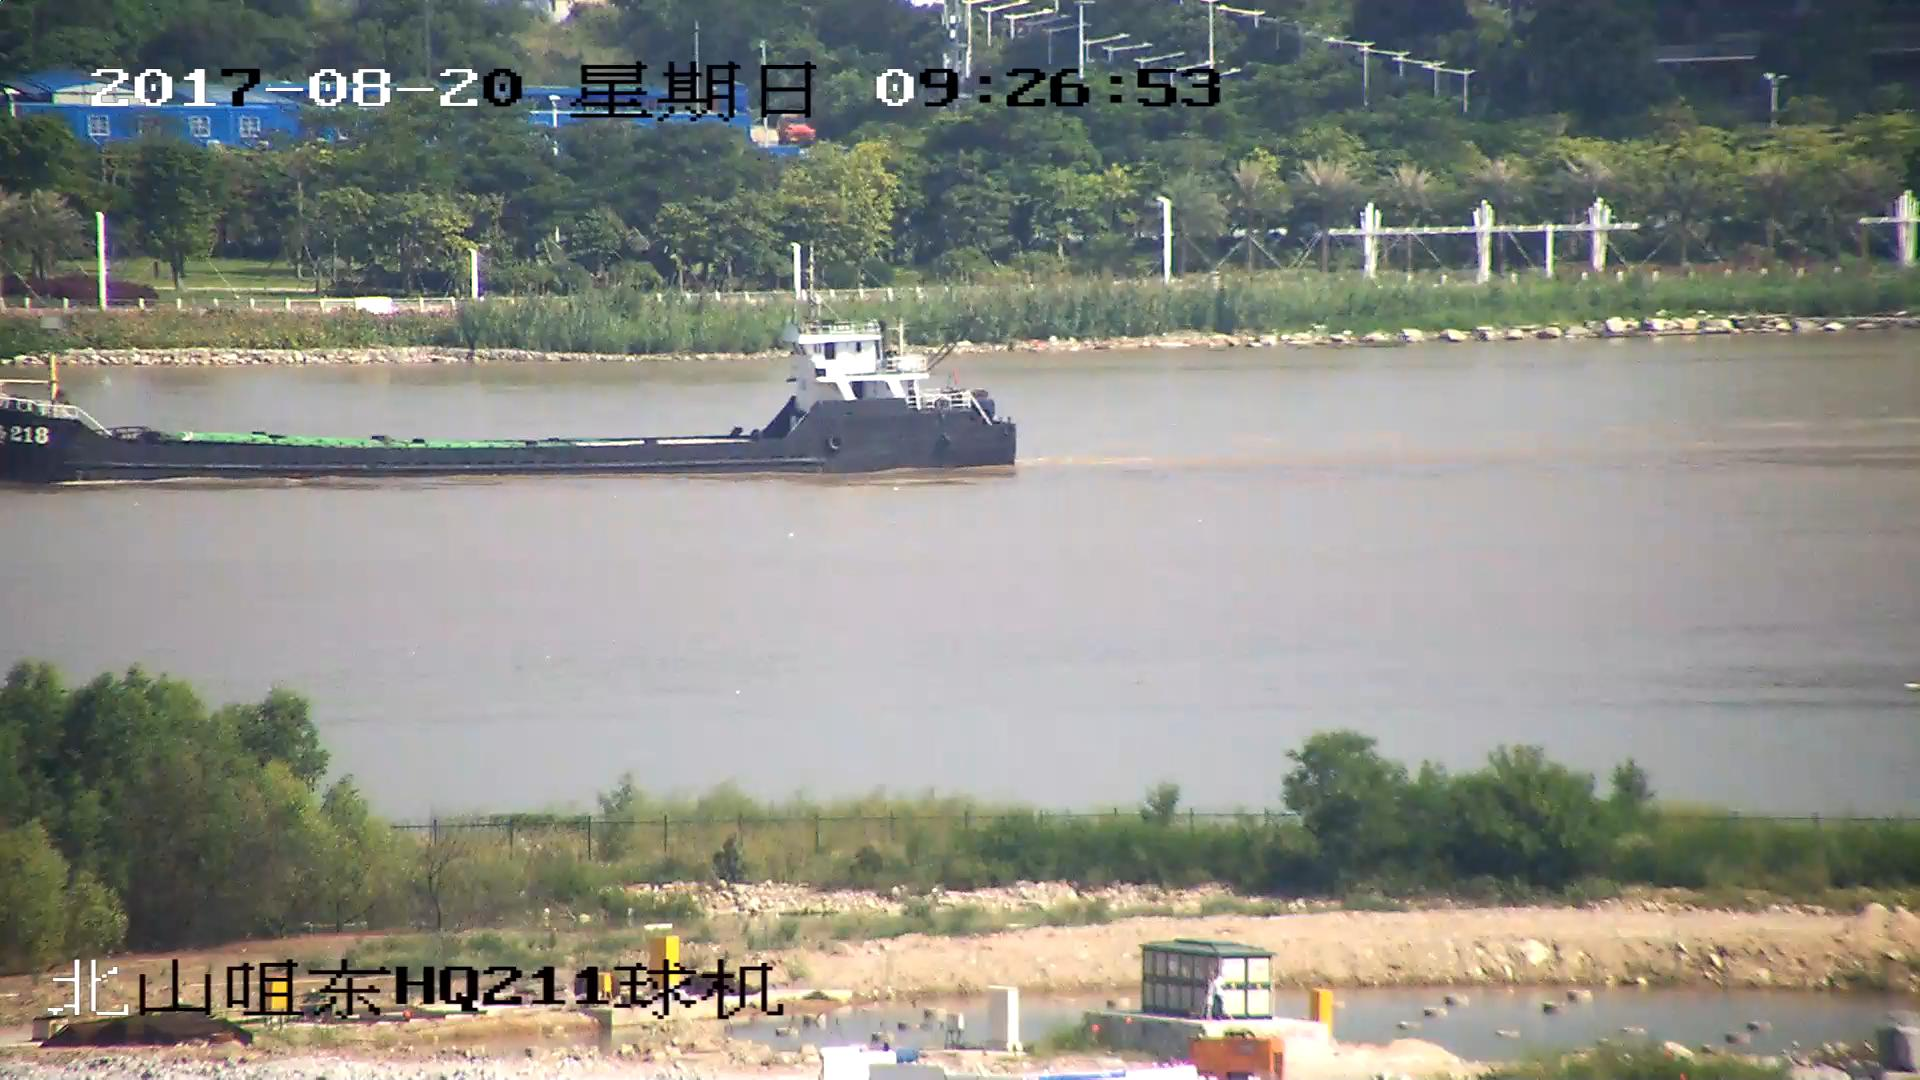general cargo ship: (1, 316, 1023, 482)
